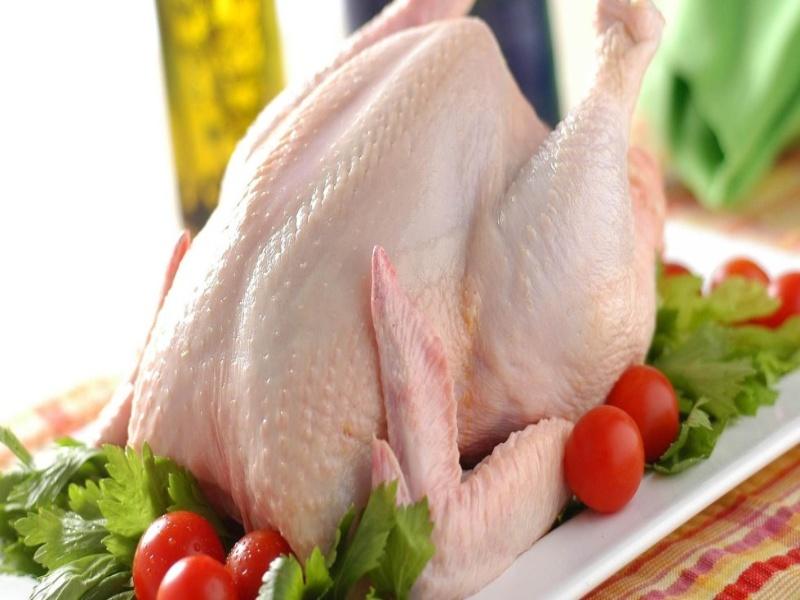Pollo: (96, 1, 668, 598)
